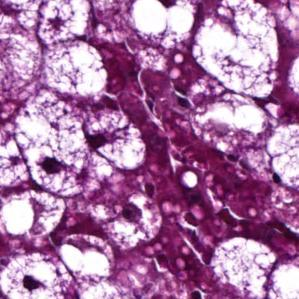ballooning: (14, 88, 115, 198), (191, 0, 279, 99), (88, 190, 165, 251), (38, 38, 110, 100), (210, 235, 279, 298), (82, 108, 148, 173), (0, 250, 76, 299), (128, 0, 196, 46), (263, 120, 299, 191)
